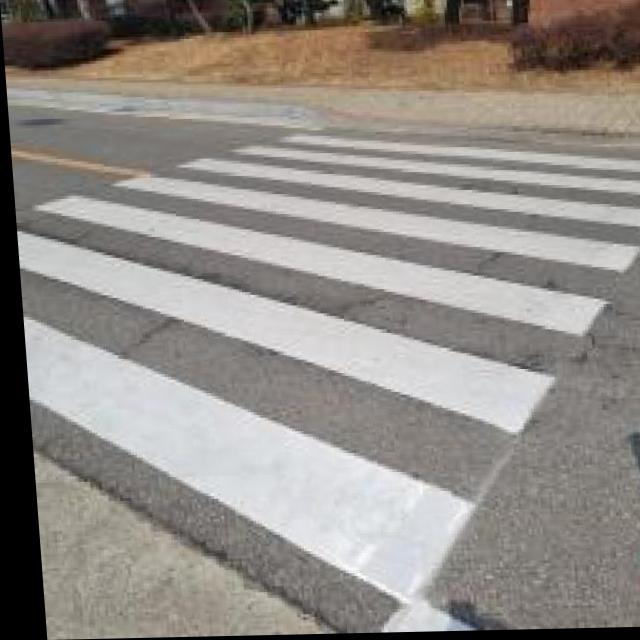zebra: (29, 112, 640, 580)
